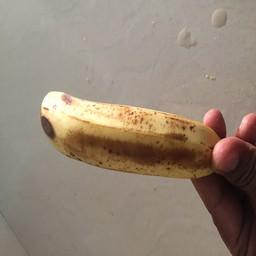Bad_banana: (35, 86, 226, 188)
